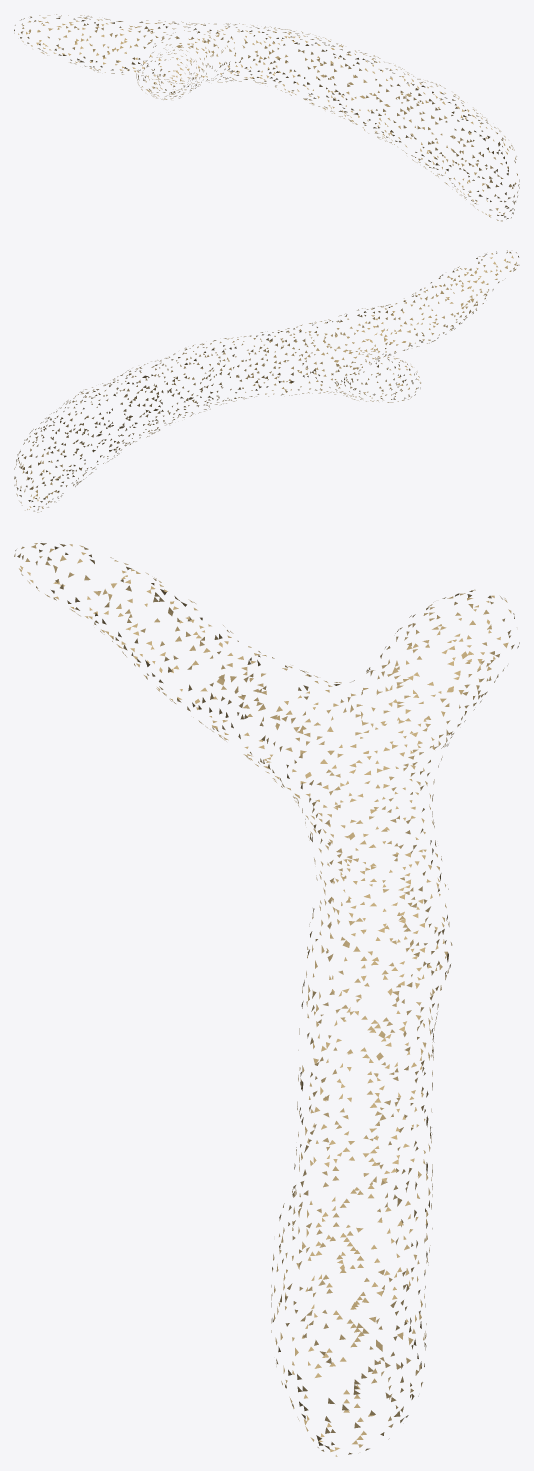
Rendered from morph_007.glb.
3 views of the same model, one above another, from view 1: azimuth 30°, elevation 25°; view 2: azimuth 150°, elevation 25°; view 3: azimuth 270°, elevation 25° (orthographic). The views are drawn at different scales.
Bounding box in the file's own units: 99.81 × 66.09 × 54.12.
